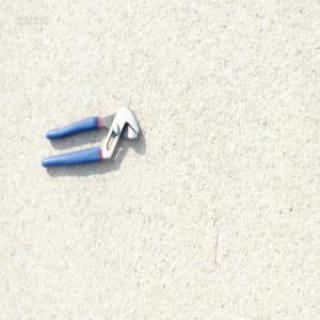Pliertrack_idkeyframe: (40, 103, 140, 170)
